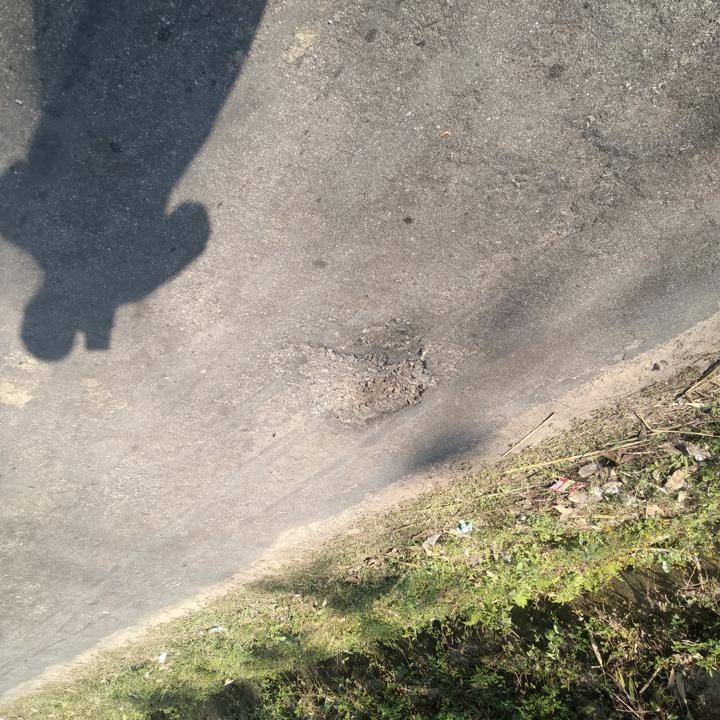pothole: (299, 336, 439, 431)
